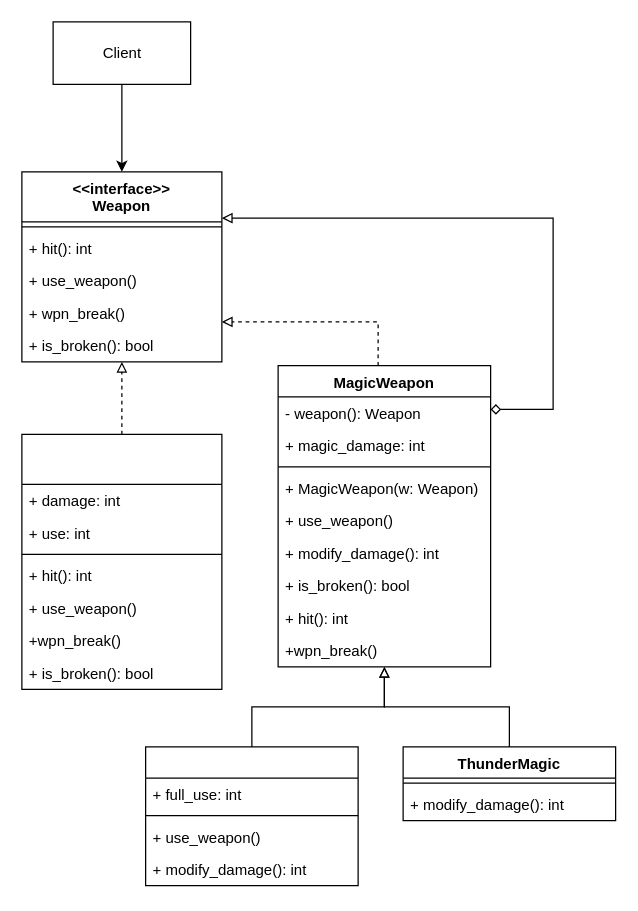
This 638x911 diagram has some shape labels left out. Here are the shapes that lost their labels. From the top down, the box of each, then its label:
(21, 433, 222, 689): Sword
(144, 746, 358, 886): MetalMagic
